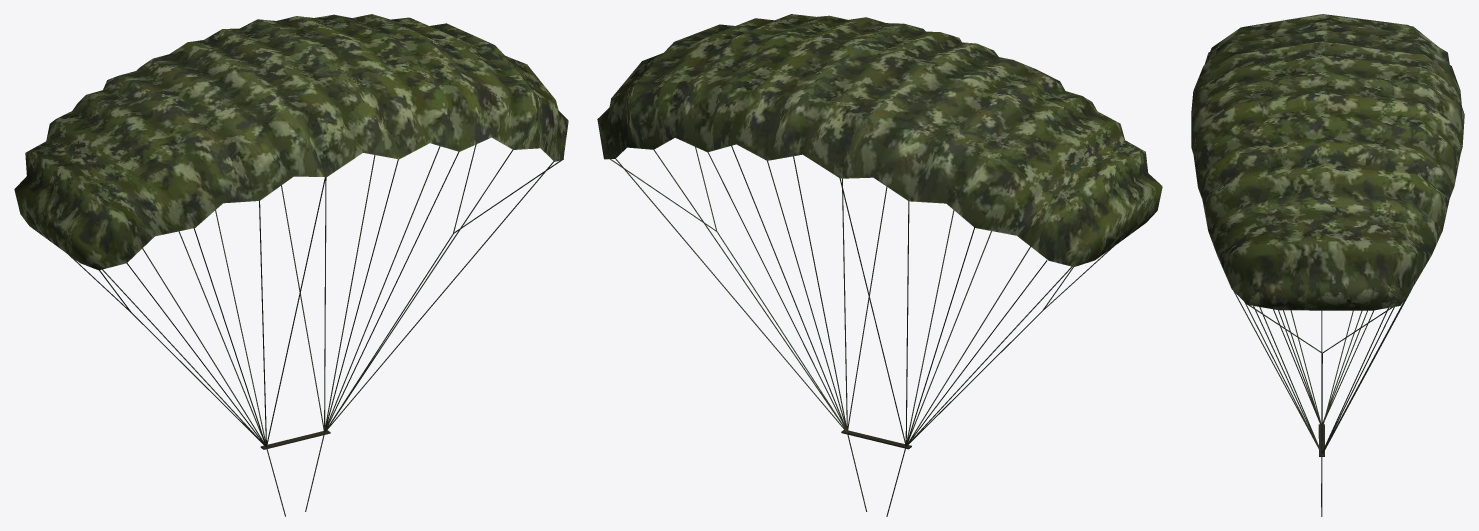
File: parachute-C6fREkue.glb
3 renders of one model, left to right at view 1: azimuth 30°, elevation 25°; view 2: azimuth 150°, elevation 25°; view 3: azimuth 270°, elevation 25°, orthographic. The views are drawn at different scales.
Visible parts, largest first — view 1: Parachute_Vehicle_AirDrop_Parachute04_D_0; view 2: Parachute_Vehicle_AirDrop_Parachute04_D_0; view 3: Parachute_Vehicle_AirDrop_Parachute04_D_0.
Boxes of the visible parts, bbox=[...] form: Parachute_Vehicle_AirDrop_Parachute04_D_0: bbox=[14, 14, 568, 516]; Parachute_Vehicle_AirDrop_Parachute04_D_0: bbox=[597, 14, 1162, 516]; Parachute_Vehicle_AirDrop_Parachute04_D_0: bbox=[1191, 14, 1464, 516].
Size of the model in its own units: 7.14 by 6.36 by 3.54.
Materials: 1 (1 with a texture image).
